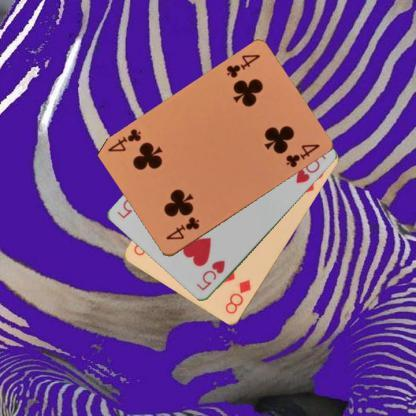4c: (223, 52, 262, 80), (163, 214, 201, 242)
5h: (193, 258, 226, 292)
8d: (223, 277, 252, 316)
